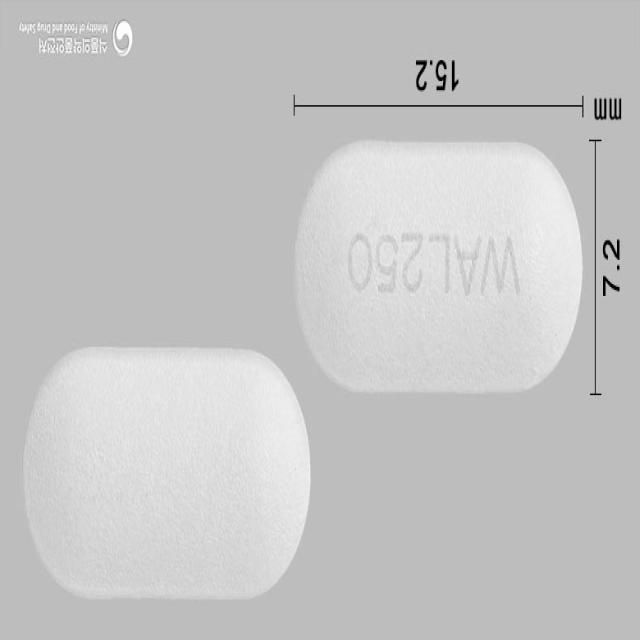Ceracin Cap: (293, 141, 582, 395), (22, 344, 310, 598)
